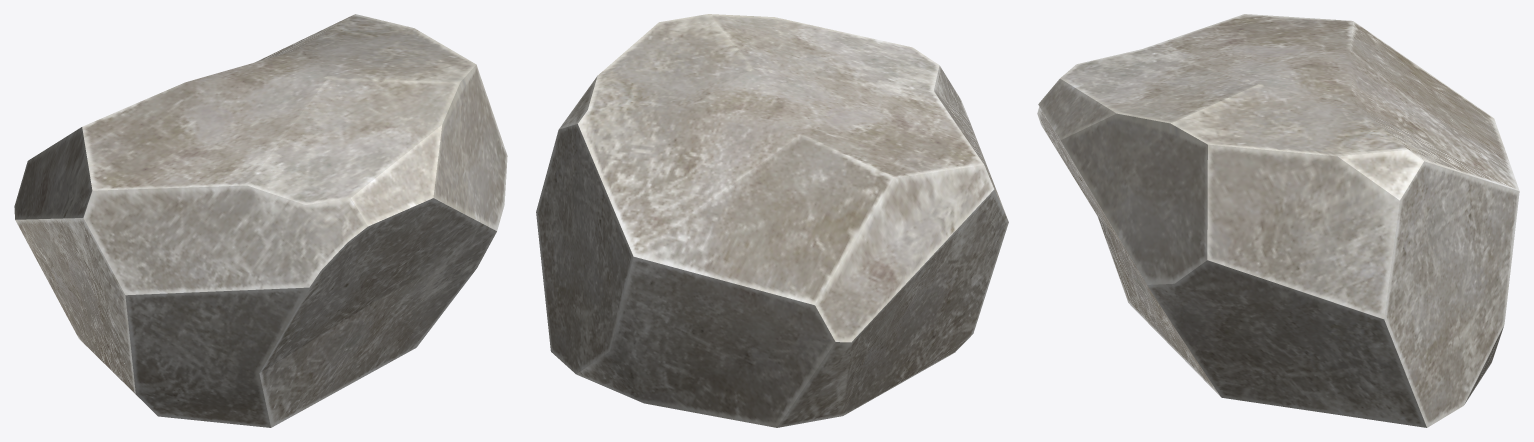
The model's file is round_rock_1_dream.glb.
3 views of the same model, side by side, from view 1: azimuth 30°, elevation 25°; view 2: azimuth 150°, elevation 25°; view 3: azimuth 270°, elevation 25° (orthographic). The views are drawn at different scales.
Parts seen in each view (by area): view 1: round_rock_1; view 2: round_rock_1; view 3: round_rock_1.
Part boxes in pixels (x1,y1,x2,y2): round_rock_1: (14, 14, 507, 427); round_rock_1: (536, 14, 1008, 427); round_rock_1: (1037, 14, 1519, 427).
Size of the model in its own units: 5.21 by 3.49 by 5.09.
1 material, 1 textured.
